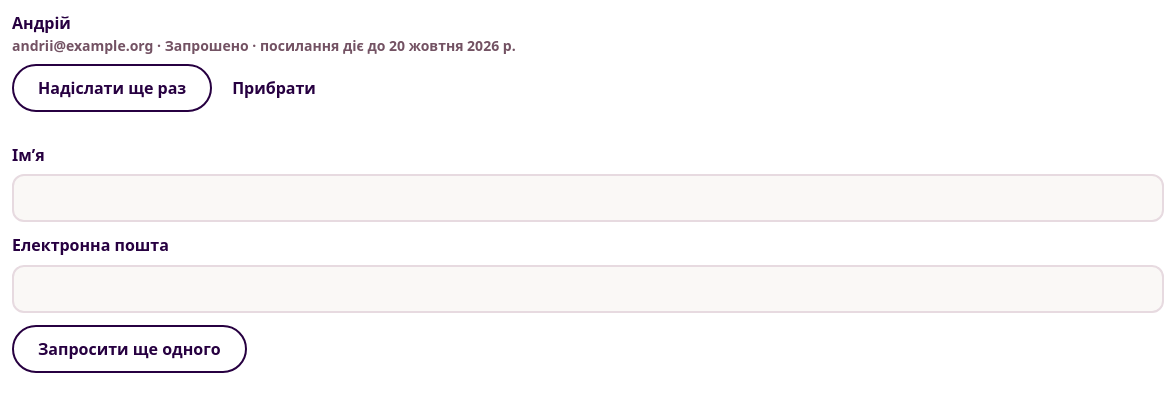
resend shows what became of the email › {"kind":"blocked","reason":"hard_bounce"}
Click the button "Надіслати ще раз" at (112, 88), box [12,64,212,112]
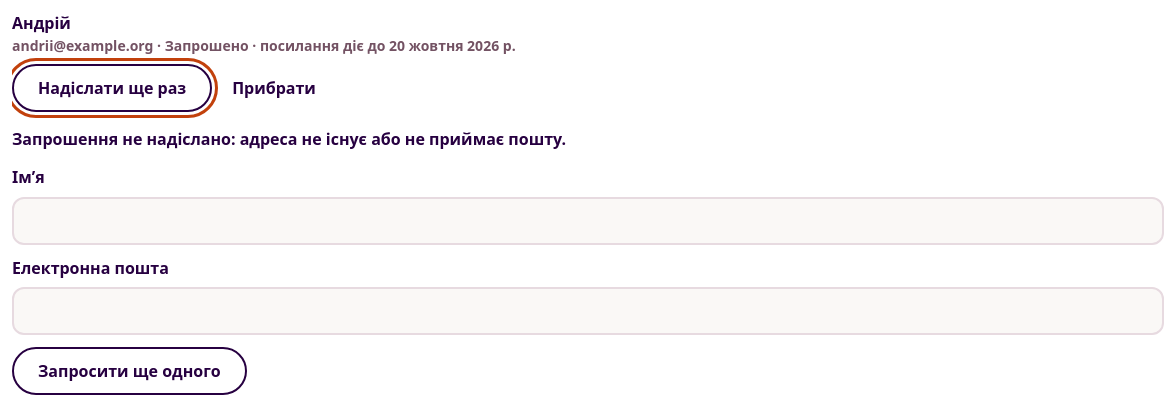
Check: the message reads "Запрошення не надіслано: адреса не існує або не приймає пошту.", box [12,128,566,150]
